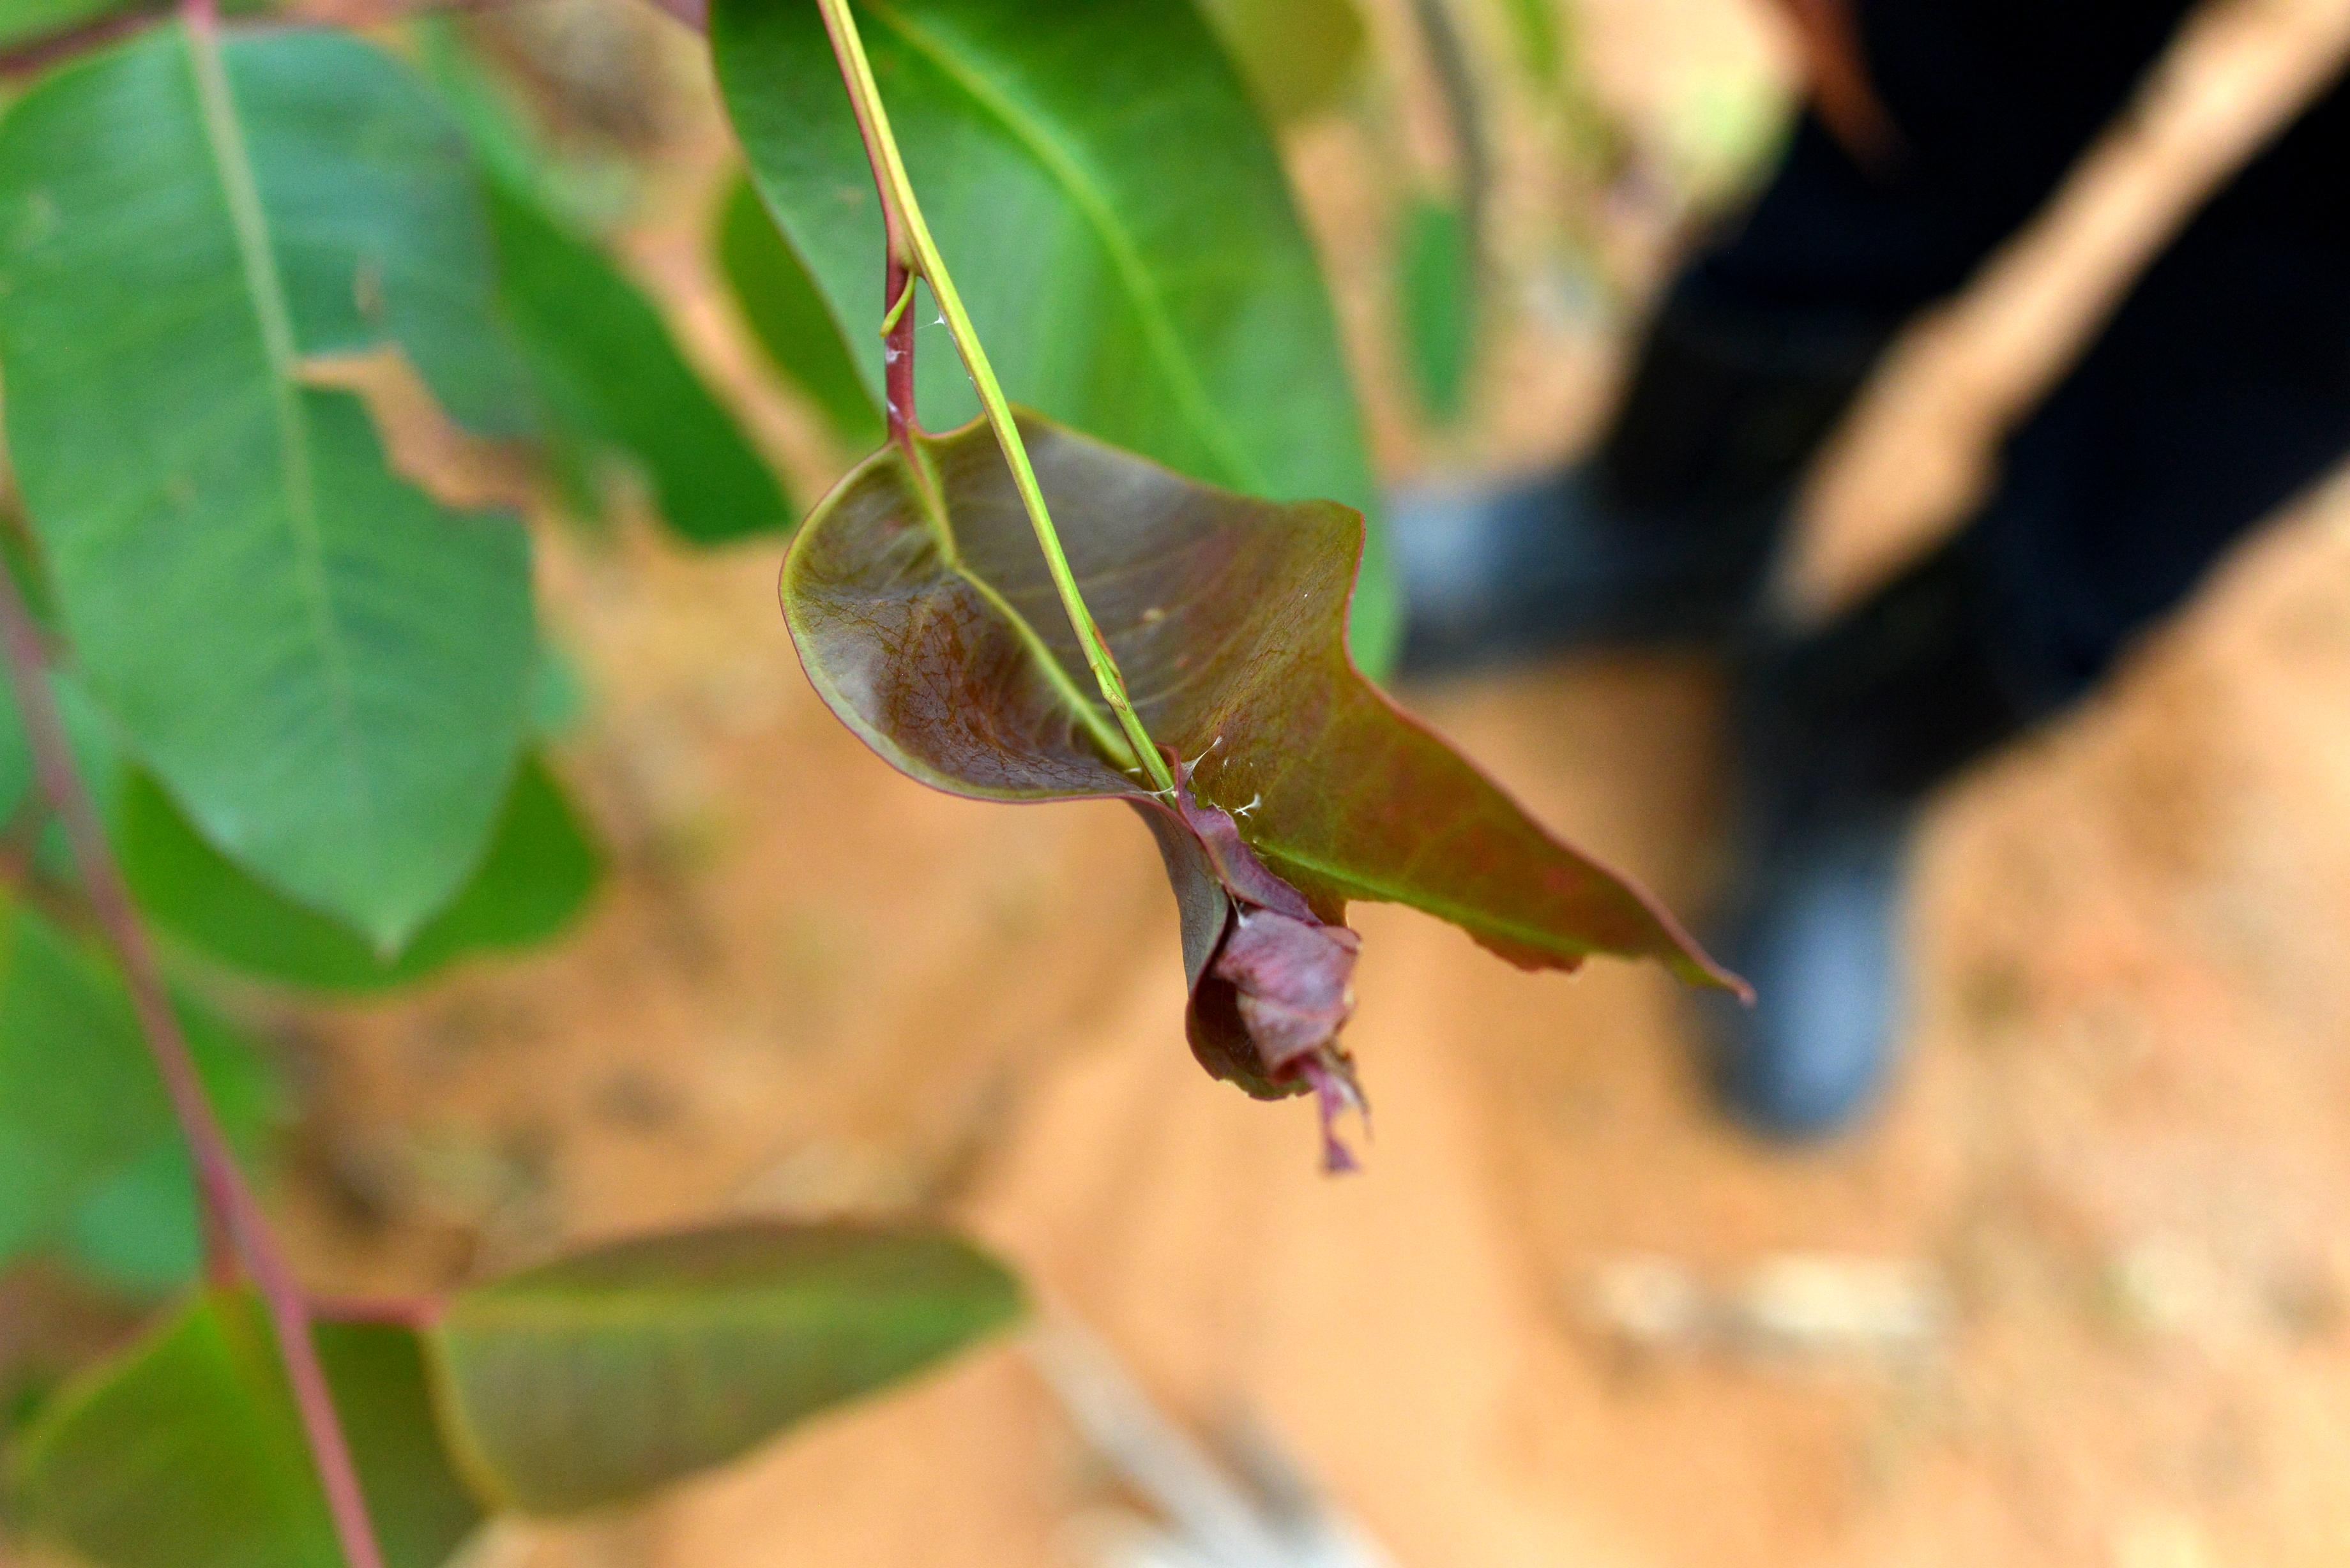Leaf Roller - Leaf: (793, 402, 1781, 1169), (1102, 738, 1370, 1185)
